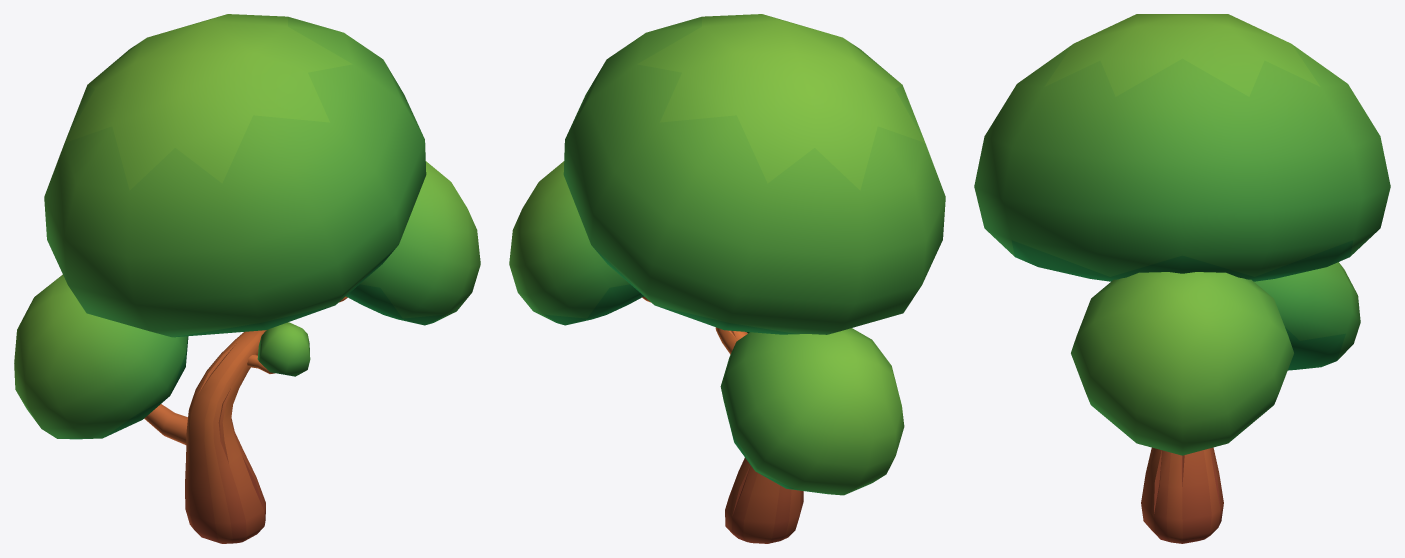
File: kk-tree-round-2.glb
3 views of the same model, side by side, from view 1: azimuth 30°, elevation 25°; view 2: azimuth 150°, elevation 25°; view 3: azimuth 270°, elevation 25° (orthographic). The views are drawn at different scales.
Visible parts, largest first — view 1: Tree_1_C_Color1; view 2: Tree_1_C_Color1; view 3: Tree_1_C_Color1.
Part boxes in pixels (x1=…): Tree_1_C_Color1: x1=14, y1=14, x2=480, y2=543; Tree_1_C_Color1: x1=509, y1=14, x2=945, y2=543; Tree_1_C_Color1: x1=974, y1=14, x2=1390, y2=543.
Size of the model in its own units: 6.69 by 7.81 by 5.75.
Materials: 1 (1 with a texture image).
